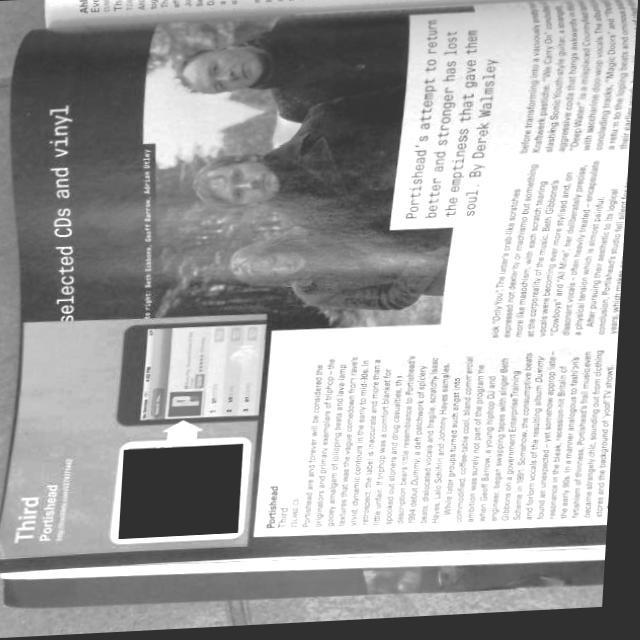qr_code: (126, 446, 249, 540)
